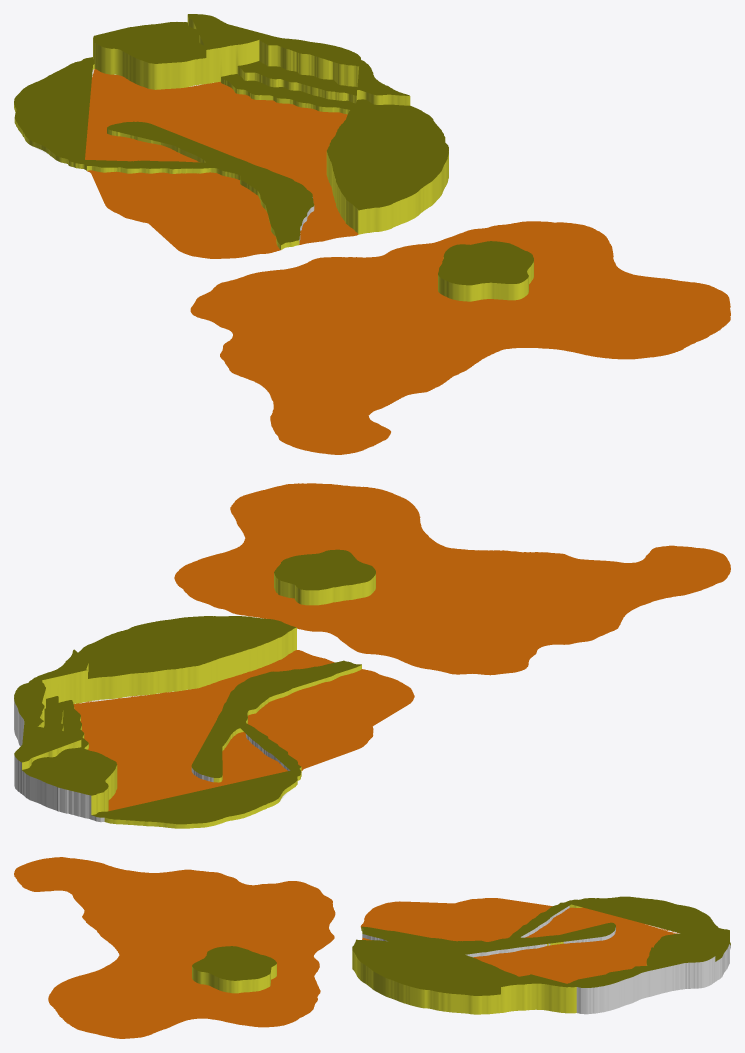
Rendered from incilanin_leveli6.fbx.
3 views of the same model, one above another, from view 1: azimuth 30°, elevation 25°; view 2: azimuth 150°, elevation 25°; view 3: azimuth 270°, elevation 25° (orthographic). The views are drawn at different scales.
Visible parts, largest first — view 1: Model; view 2: Model; view 3: Model.
Boxes of the visible parts, bbox=[...] form: Model: bbox=[14, 14, 730, 454]; Model: bbox=[14, 483, 730, 828]; Model: bbox=[14, 857, 730, 1038].
Size of the model in its own units: 3.14 by 0.21 by 5.23.
